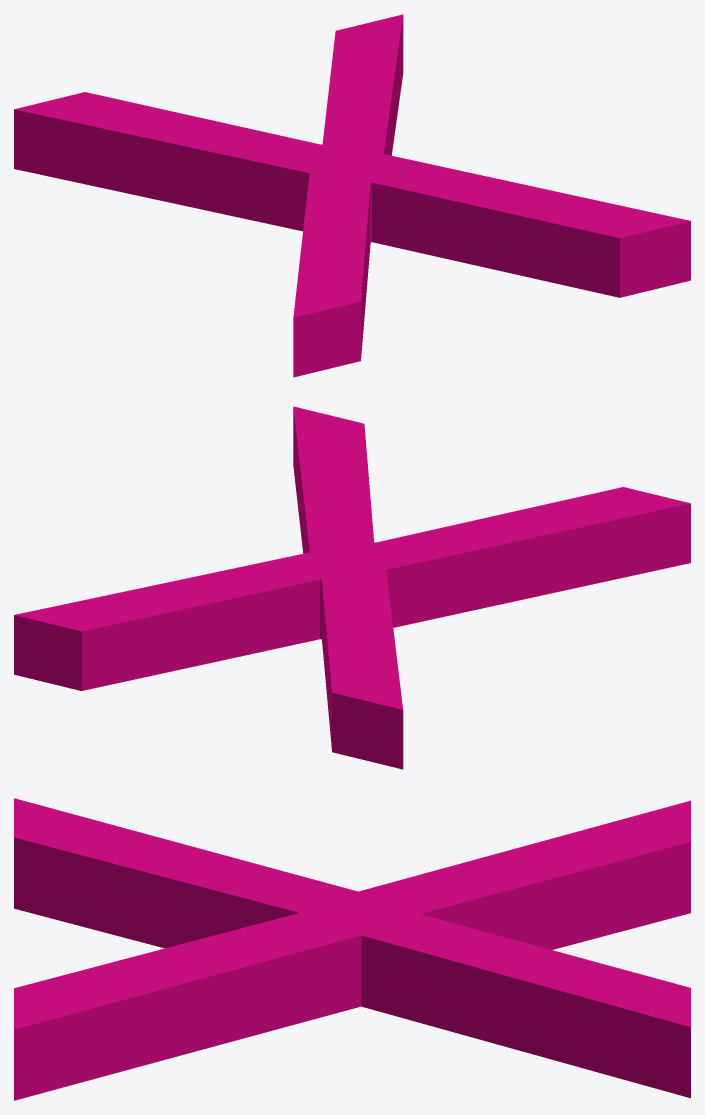
The picture shows the model from 3 angles, top to bottom: view 1: azimuth 30°, elevation 25°; view 2: azimuth 150°, elevation 25°; view 3: azimuth 270°, elevation 25°; orthographic projection. The views are drawn at different scales.
Visible parts, largest first — view 1: X; view 2: X; view 3: X.
Part boxes in pixels (x1,y1,x2,y2): X: (14, 14, 690, 377); X: (14, 406, 690, 769); X: (14, 798, 690, 1100).
Size of the model in its own units: 0.1752 by 0.0251 by 0.2165.
